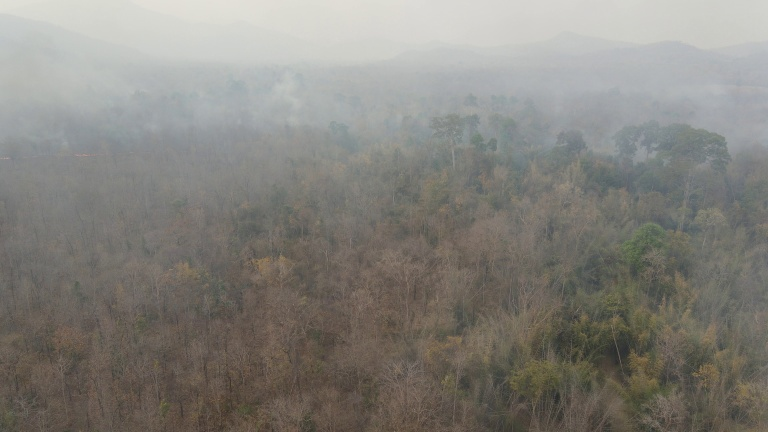fire: (6, 143, 157, 167)
smoke: (5, 1, 768, 164), (271, 69, 313, 132)
